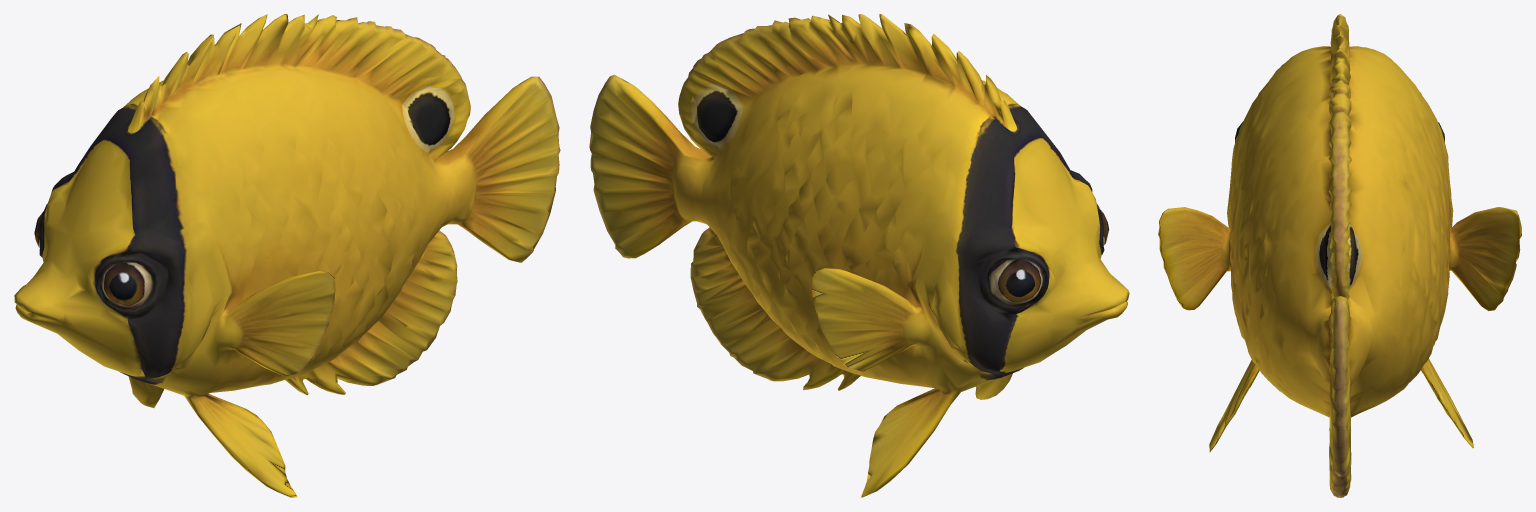
Rendered from fish-babochka.glb.
The picture shows the model from 3 angles, left to right: view 1: azimuth 30°, elevation 25°; view 2: azimuth 150°, elevation 25°; view 3: azimuth 270°, elevation 25°; orthographic projection. The views are drawn at different scales.
Visible parts, largest first — view 1: tripo_node_6b09d2bf-f44f-4424-ad4d-675d35bf562a; view 2: tripo_node_6b09d2bf-f44f-4424-ad4d-675d35bf562a; view 3: tripo_node_6b09d2bf-f44f-4424-ad4d-675d35bf562a.
Boxes of the visible parts, left/top/right/bottom form: tripo_node_6b09d2bf-f44f-4424-ad4d-675d35bf562a: left=14, top=14, right=560, bottom=497; tripo_node_6b09d2bf-f44f-4424-ad4d-675d35bf562a: left=589, top=14, right=1129, bottom=497; tripo_node_6b09d2bf-f44f-4424-ad4d-675d35bf562a: left=1158, top=14, right=1521, bottom=497.
Bounding box in the file's own units: 1 × 0.7588 × 0.5726.
1 material, 1 textured.
